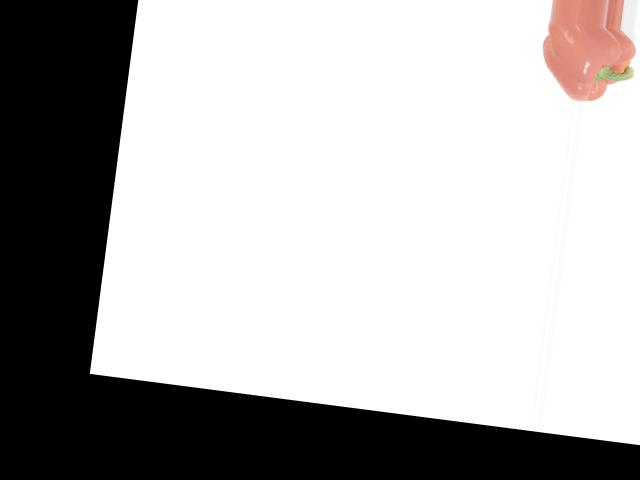bell_pepper: (525, 18, 640, 109)
